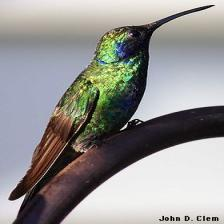Beak: (146, 4, 216, 35)
BirdBody: (9, 6, 210, 200)
Chest: (74, 62, 147, 152)
Foot: (122, 119, 144, 131)
Head: (93, 5, 214, 63)
SkyBGD: (1, 0, 223, 224), (62, 138, 223, 224)
Tail: (19, 146, 83, 213)
Wing: (8, 76, 100, 200)
WoodBGD: (13, 107, 223, 224)
